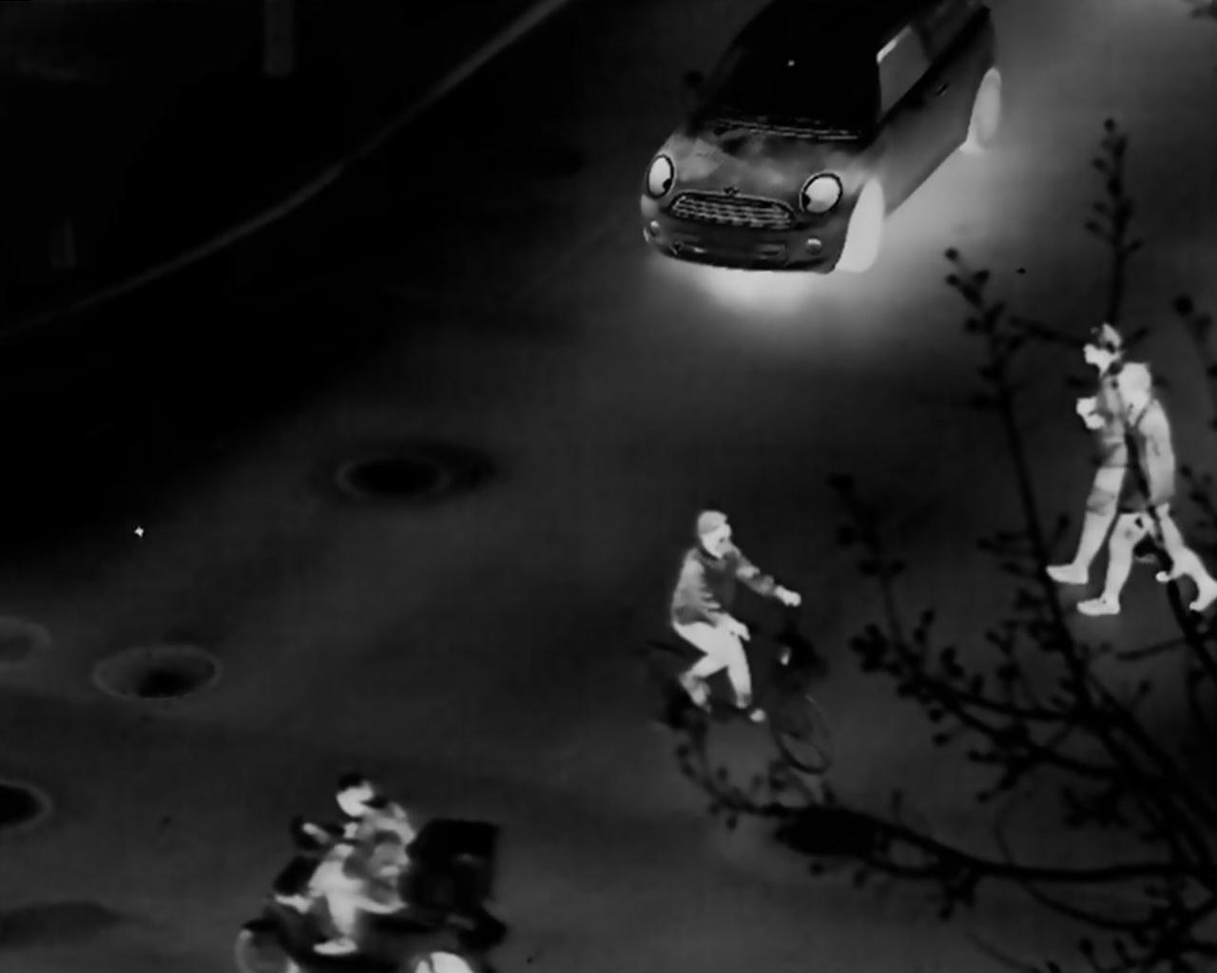person: (1077, 362, 1217, 620), (1051, 331, 1193, 578), (673, 512, 805, 732), (321, 792, 416, 946)
